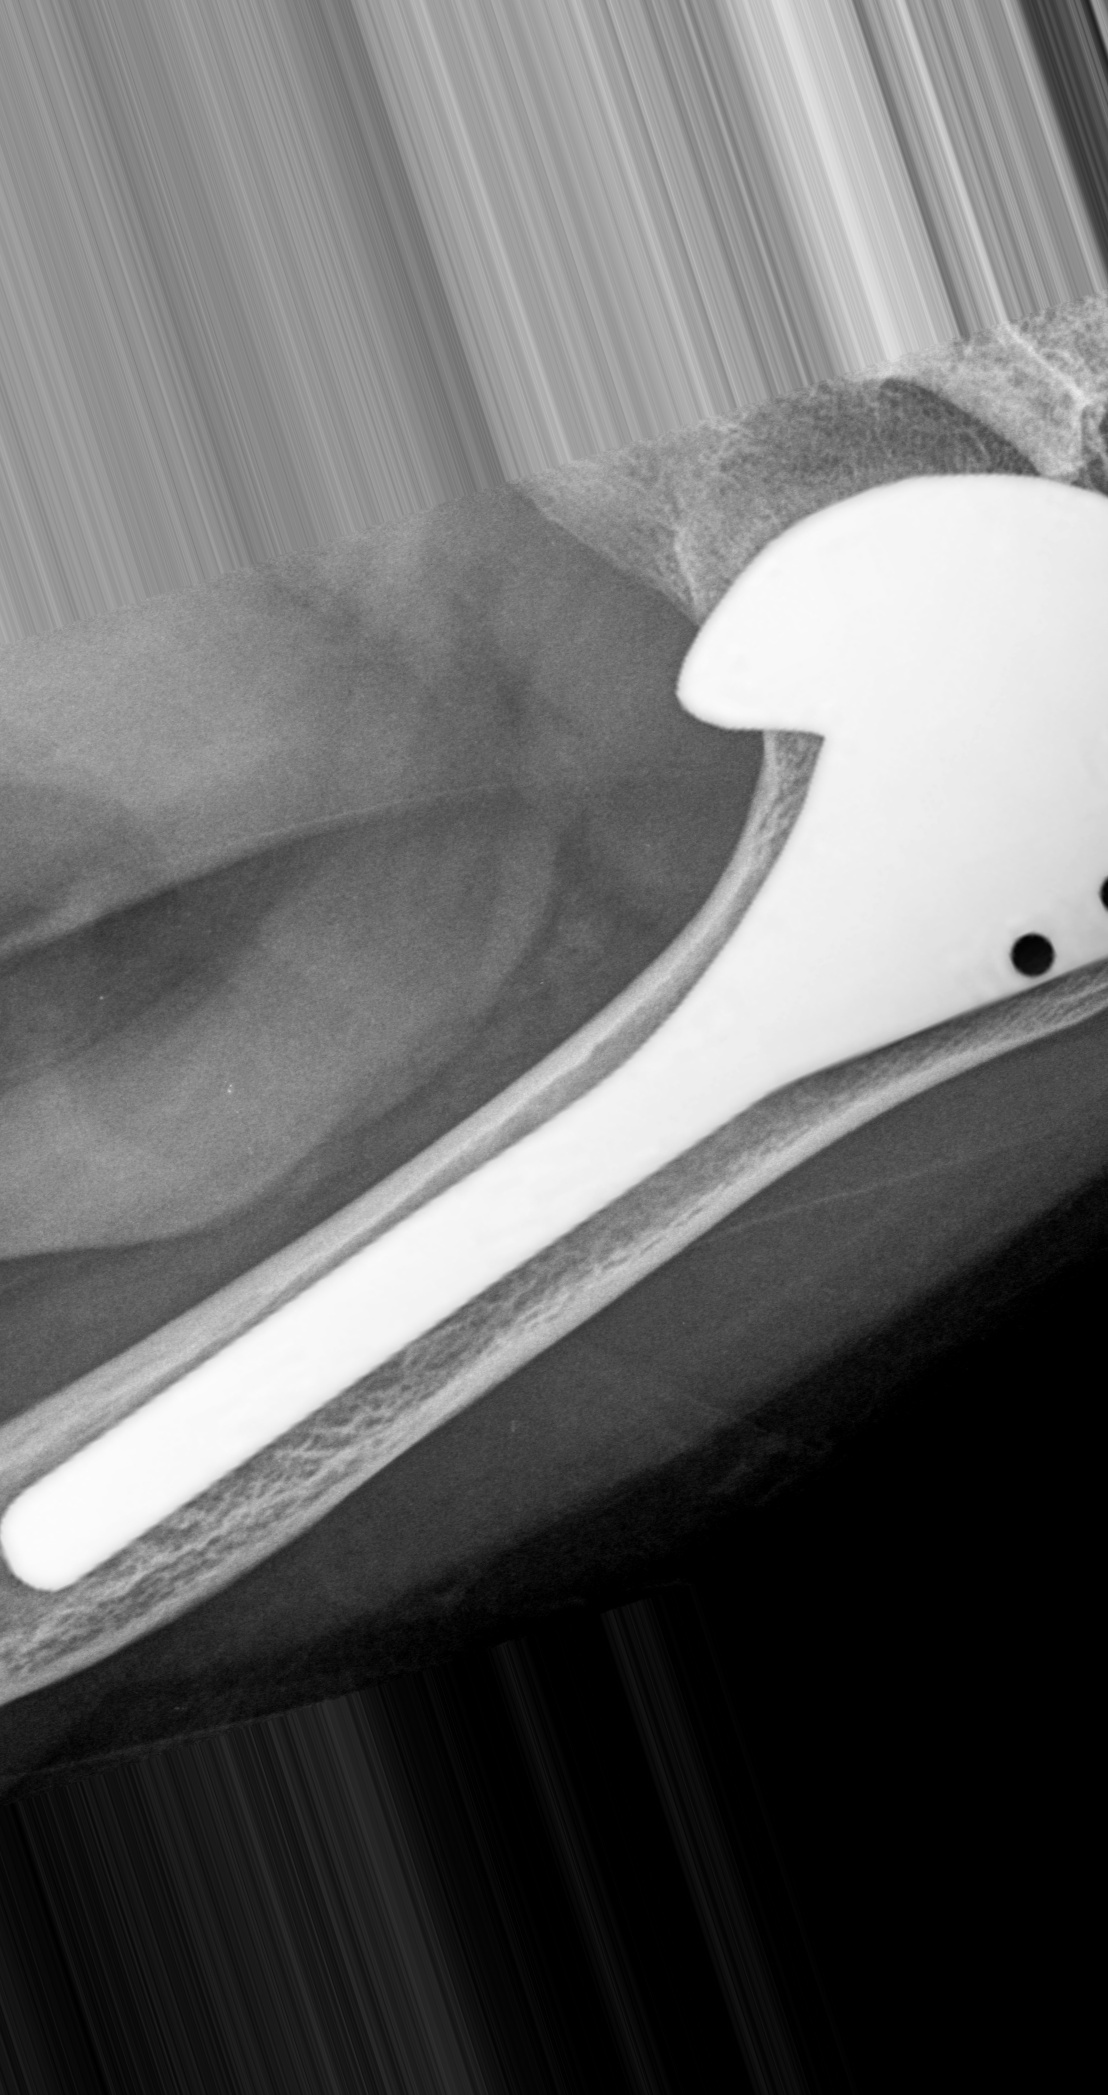Shoulder - Aequalishead - Tornier: (618, 461, 1108, 779)
Shoulder - Aequalistail - Tornier: (645, 664, 1108, 1135)
